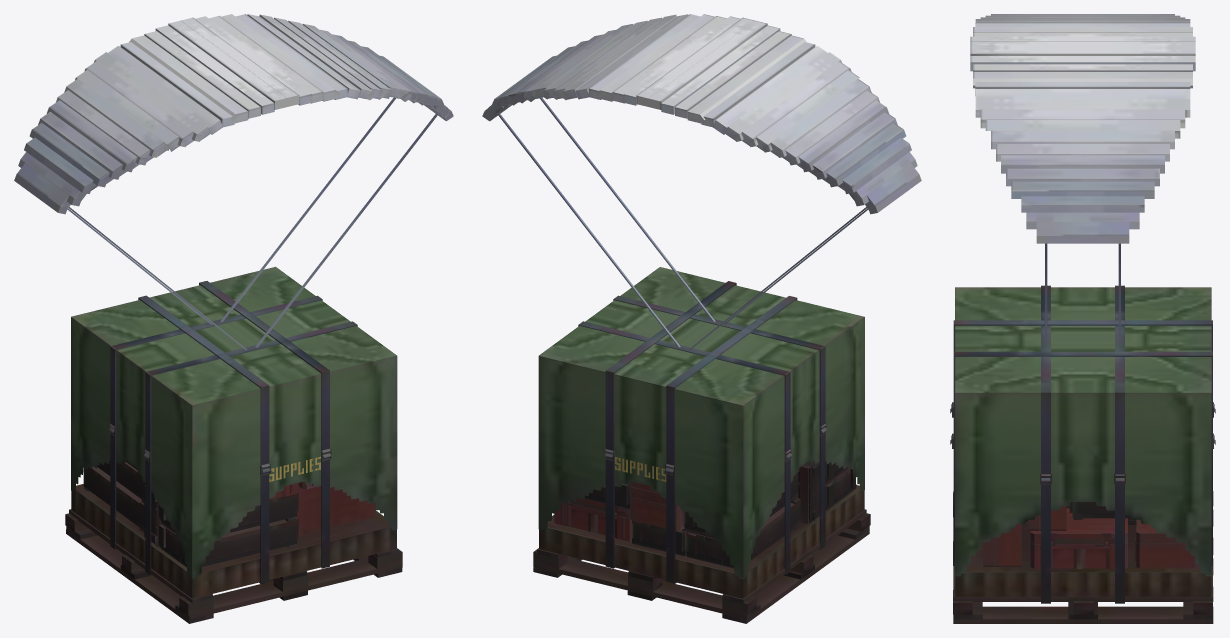
File: cargo.glb
3 views of the same model, side by side, from view 1: azimuth 30°, elevation 25°; view 2: azimuth 150°, elevation 25°; view 3: azimuth 270°, elevation 25° (orthographic). The views are drawn at different scales.
Parts seen in each view (by area): view 1: crate/material_1, chute/material_0; view 2: crate/material_1, chute/material_0; view 3: crate/material_1, chute/material_0.
Boxes of the visible parts, <box> form: crate/material_1: <box>65,266,402,623</box>; chute/material_0: <box>14,14,453,349</box>; crate/material_1: <box>533,267,870,623</box>; chute/material_0: <box>482,14,921,349</box>; crate/material_1: <box>950,285,1215,623</box>; chute/material_0: <box>970,14,1195,342</box>.
Size of the model in its own units: 2.56 by 3.05 by 1.41.
3 materials, 3 textured.
